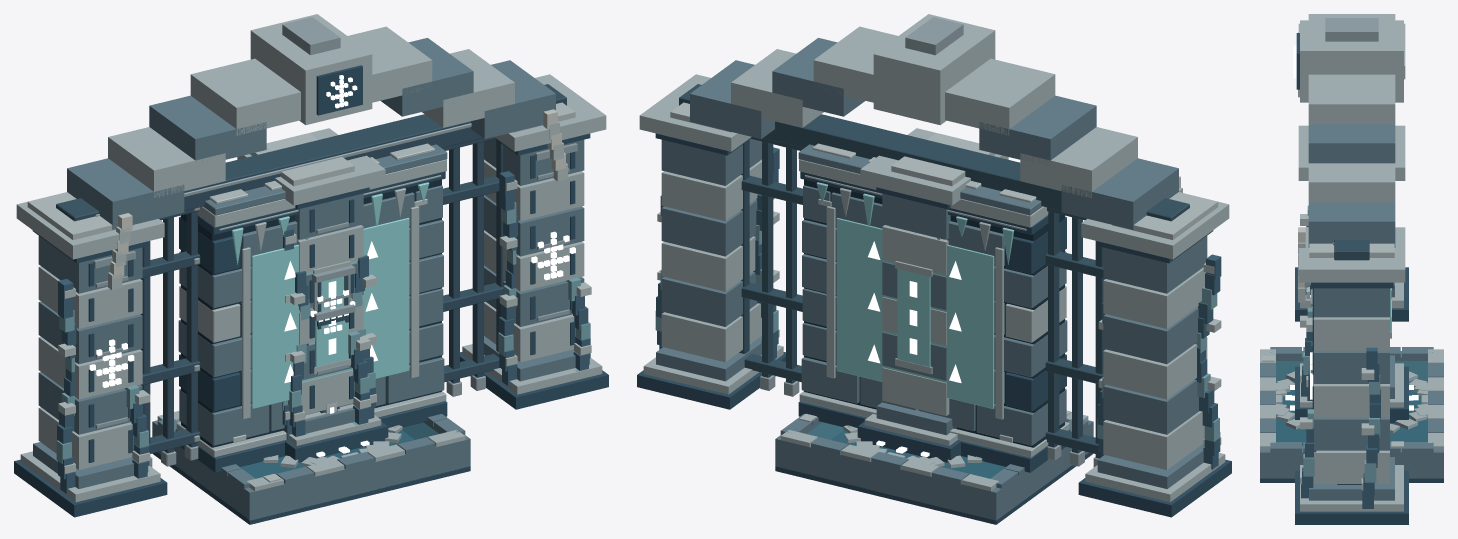
Rendered from frosthollow-kit.glb.
3 renders of one model, left to right at view 1: azimuth 30°, elevation 25°; view 2: azimuth 150°, elevation 25°; view 3: azimuth 270°, elevation 25°, orthographic. The views are drawn at different scales.
Visible parts, largest first — view 1: arch-stone, wall-stone, gate-leaf, pillar-stone, pool-stone, gate-stone, guardian-stone, arch-glow, brazier-stone, pool-water, wall-glow; view 2: arch-stone, wall-stone, gate-leaf, pillar-stone, pool-stone, gate-stone, guardian-stone, pool-water, wall-glow; view 3: arch-stone, pool-stone, pillar-stone, pool-water, guardian-stone, checkpoint-stone, gate-stone, seal-stone, arch-glow.
Boxes of the visible parts, x1,y1,x2,y2 form: arch-stone: [14, 14, 608, 517]; wall-stone: [175, 143, 447, 472]; gate-leaf: [140, 137, 504, 467]; pillar-stone: [237, 128, 387, 461]; pool-stone: [152, 411, 470, 524]; gate-stone: [56, 84, 566, 221]; guardian-stone: [285, 255, 388, 462]; arch-glow: [89, 75, 575, 387]; brazier-stone: [311, 264, 355, 329]; pool-water: [240, 422, 438, 478]; wall-glow: [284, 241, 378, 382]; arch-stone: [637, 14, 1231, 517]; wall-stone: [798, 143, 1070, 472]; gate-leaf: [739, 137, 1105, 467]; pillar-stone: [857, 128, 1008, 462]; pool-stone: [775, 410, 1093, 524]; gate-stone: [679, 84, 1189, 221]; guardian-stone: [857, 261, 960, 462]; pool-water: [807, 422, 1005, 478]; wall-glow: [867, 241, 961, 382]; arch-stone: [1295, 14, 1408, 524]; pool-stone: [1260, 347, 1443, 482]; pillar-stone: [1295, 125, 1408, 421]; pool-water: [1276, 361, 1427, 445]; guardian-stone: [1295, 287, 1408, 423]; checkpoint-stone: [1276, 371, 1427, 432]; gate-stone: [1333, 240, 1369, 484]; seal-stone: [1276, 379, 1427, 433]; arch-glow: [1293, 45, 1313, 399].
Size of the model in its own units: 9.2 by 7.1 by 2.9.
